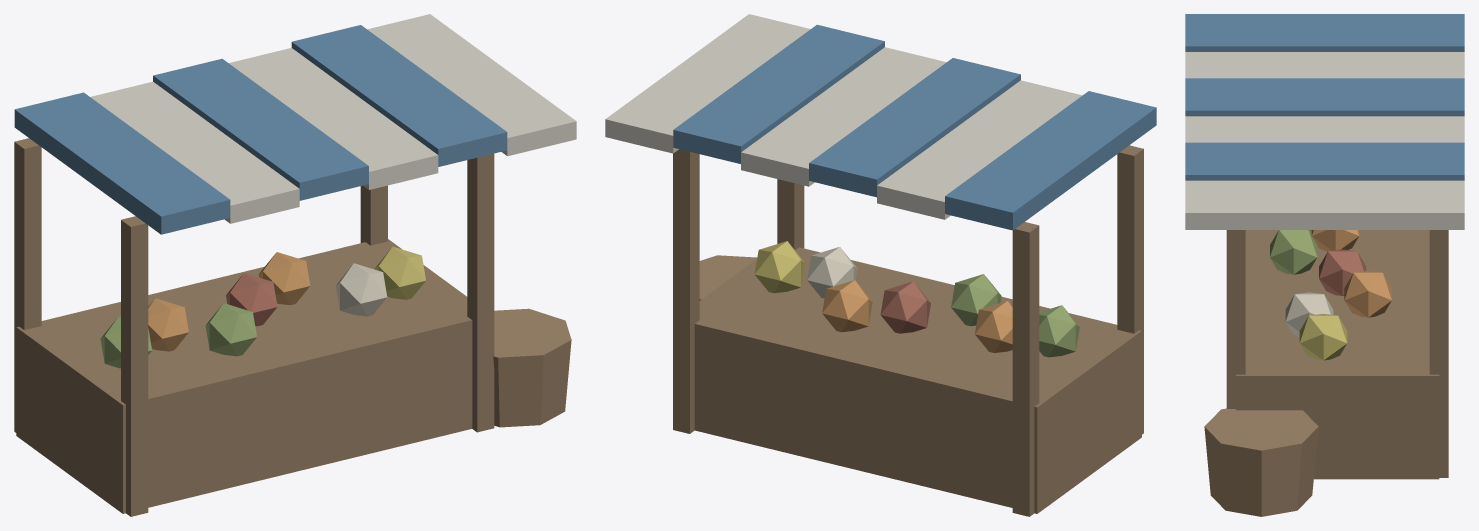
Rendered from m_stand_b.glb.
3 views of the same model, side by side, from view 1: azimuth 30°, elevation 25°; view 2: azimuth 150°, elevation 25°; view 3: azimuth 270°, elevation 25° (orthographic). The views are drawn at different scales.
Parts seen in each view (by area): view 1: koerper; view 2: koerper; view 3: koerper.
Part boxes in pixels (x1,y1,x2,y2): koerper: (14,14,576,516); koerper: (605,14,1156,516); koerper: (1185,14,1464,516).
Bounding box in the file's own units: 3.95 × 2.6 × 2.2.
